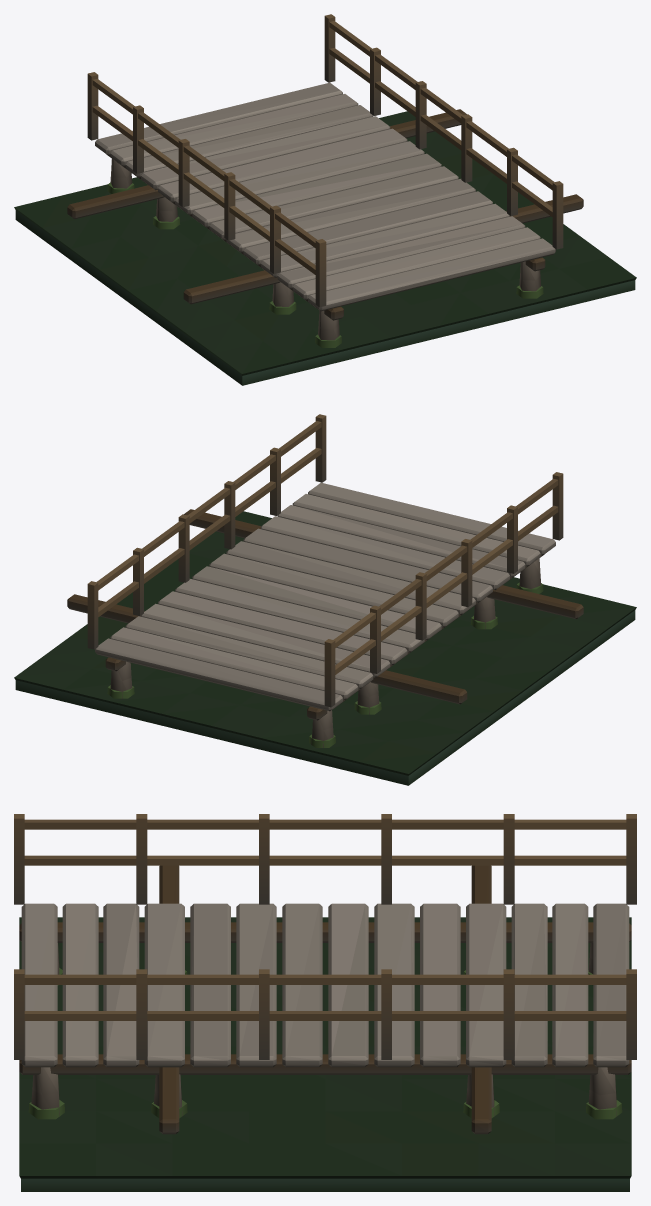
File: road-boardwalk-straight.glb
3 views of the same model, one above another, from view 1: azimuth 30°, elevation 25°; view 2: azimuth 150°, elevation 25°; view 3: azimuth 270°, elevation 25° (orthographic). The views are drawn at different scales.
Parts seen in each view (by area): view 1: road_boardwalk_straight; view 2: road_boardwalk_straight; view 3: road_boardwalk_straight.
Boxes of the visible parts, x1,y1,x2,y2 form: road_boardwalk_straight: (14,14,636,385); road_boardwalk_straight: (14,414,636,785); road_boardwalk_straight: (14,814,636,1191).
Bounding box in the file's own units: 4 × 1.25 × 4.07.
